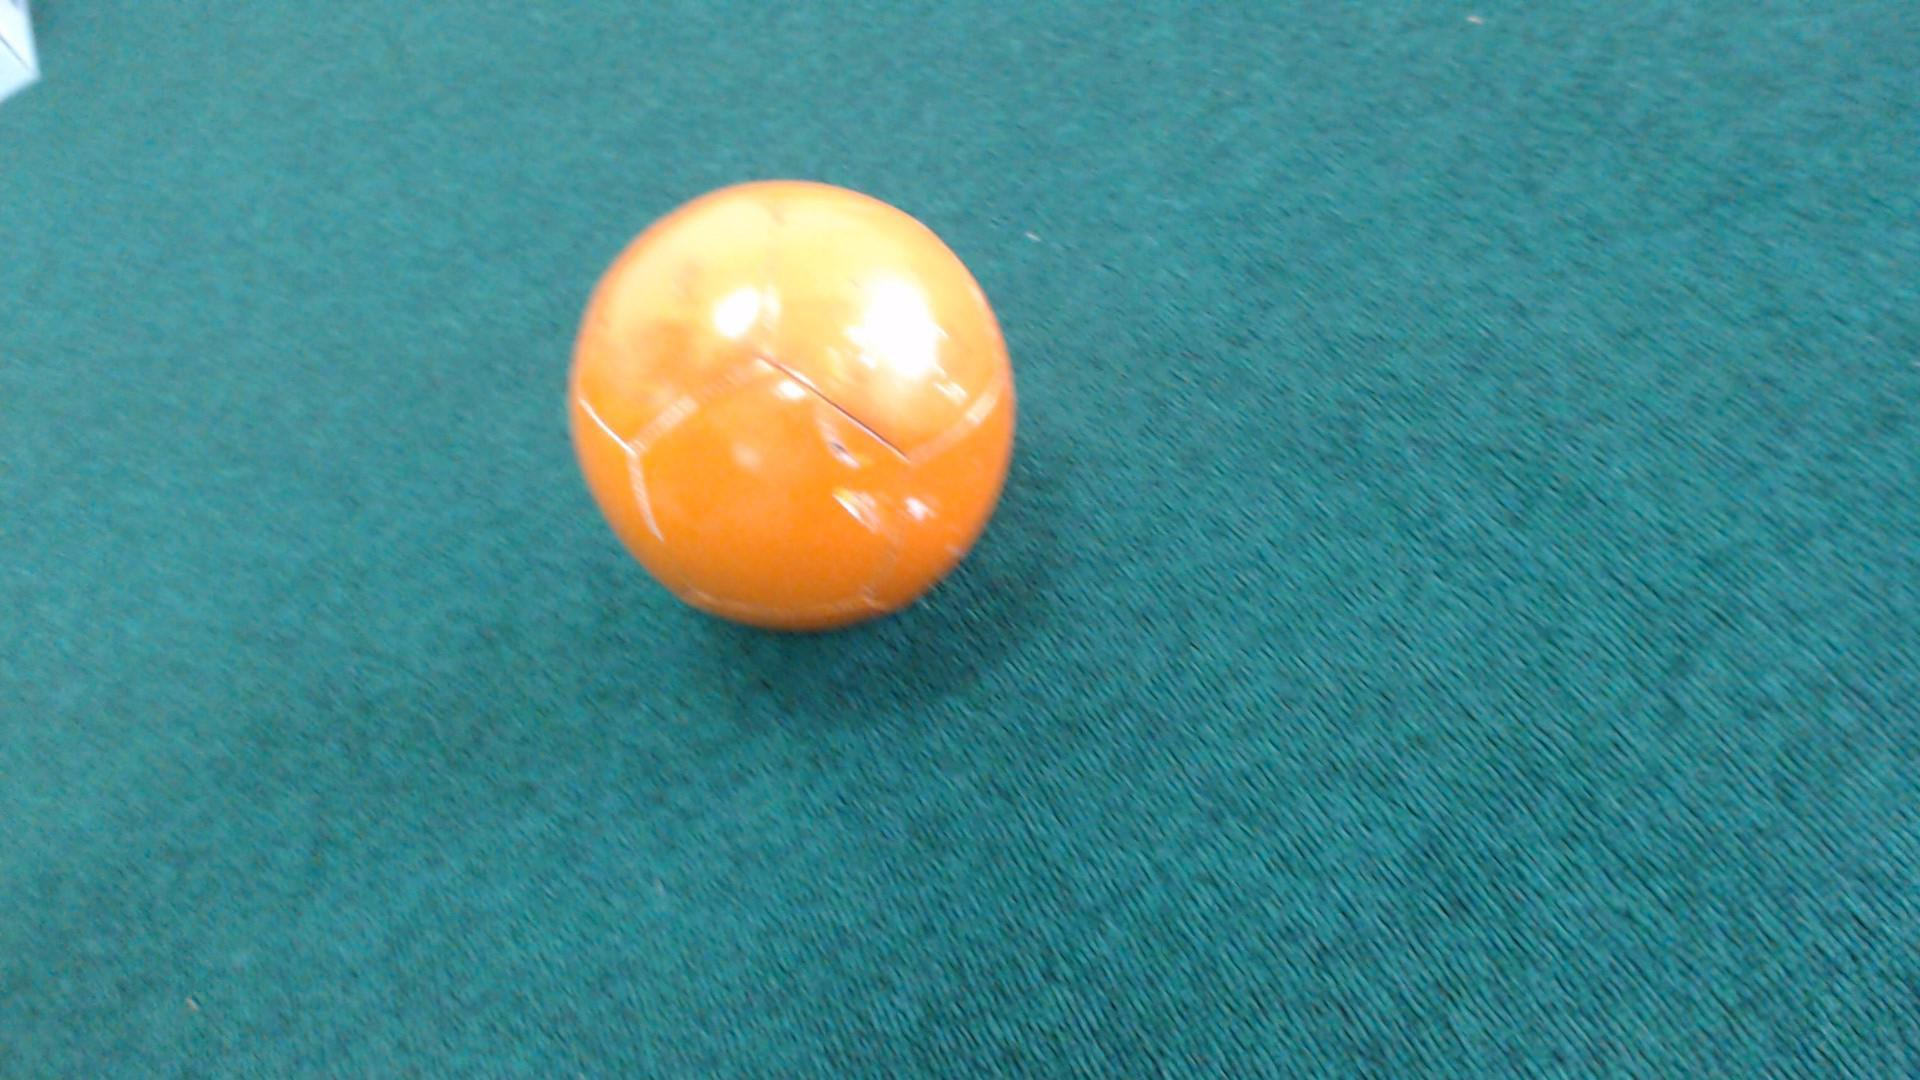bola: (508, 152, 1058, 655)
